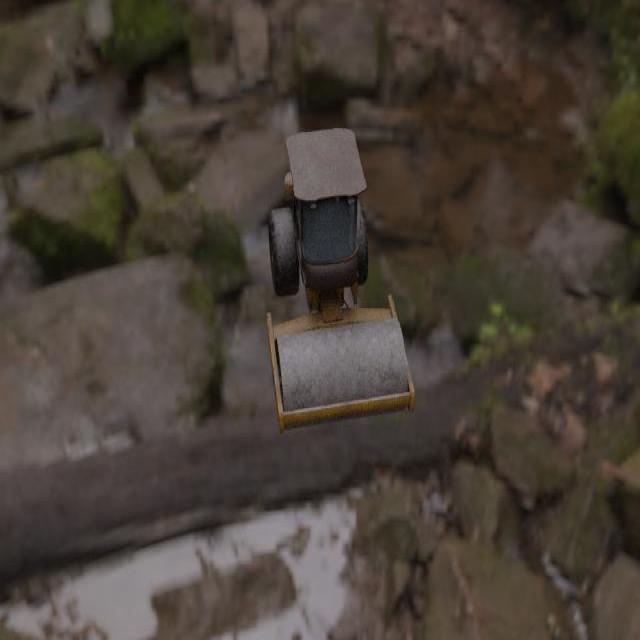Roller: (266, 127, 414, 433)
